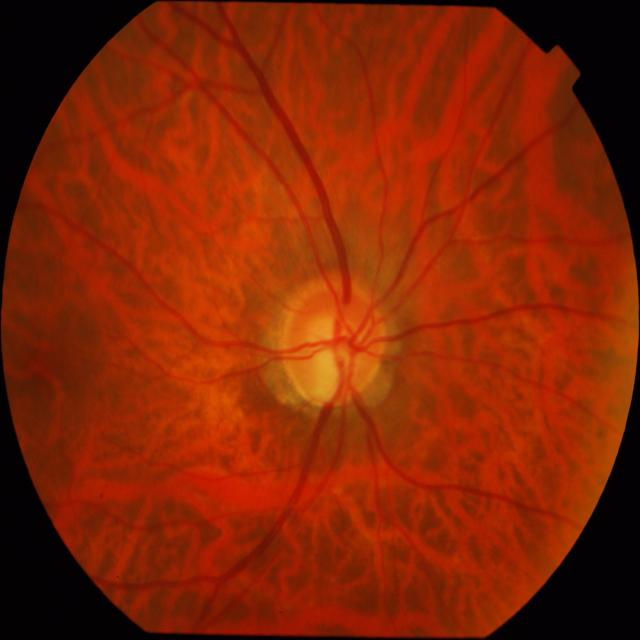OC: (306, 309, 361, 403)
OD: (281, 280, 386, 410)
